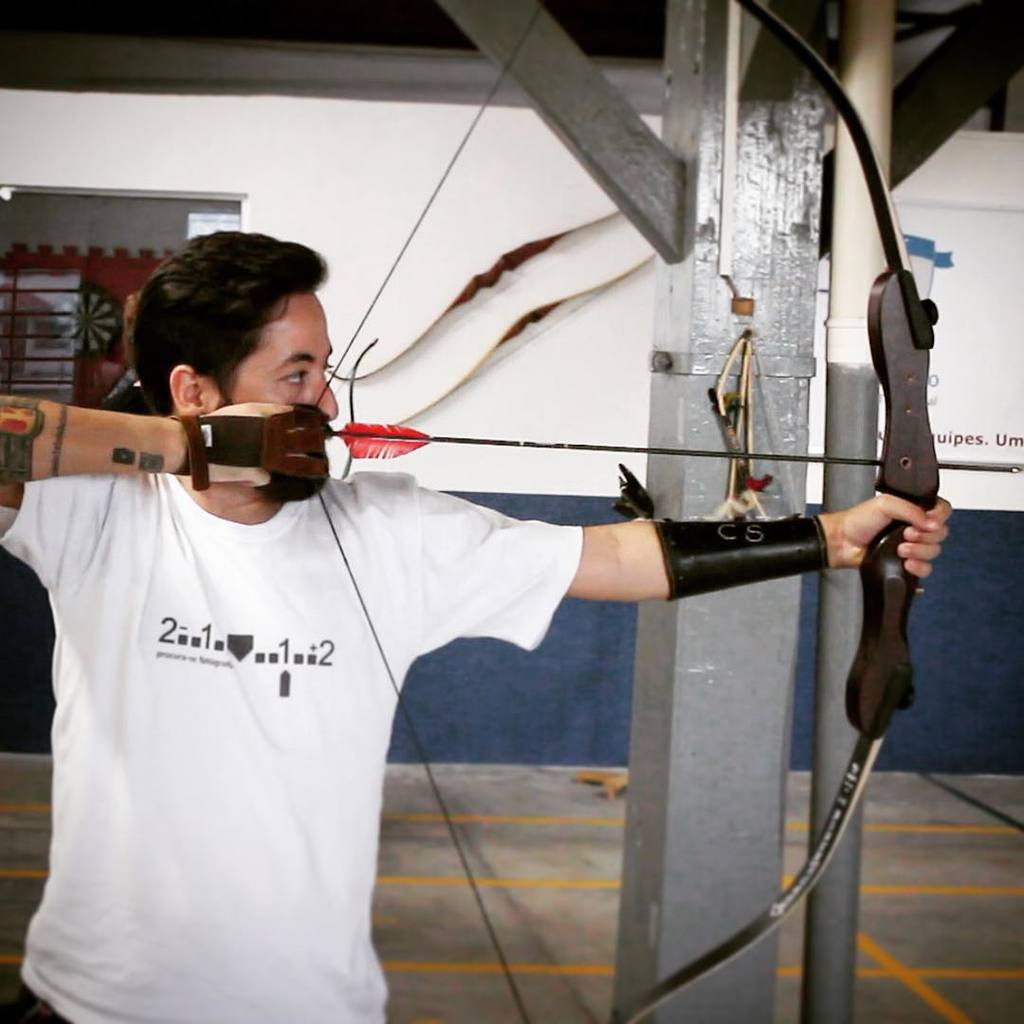Person: (0, 227, 952, 1023)
